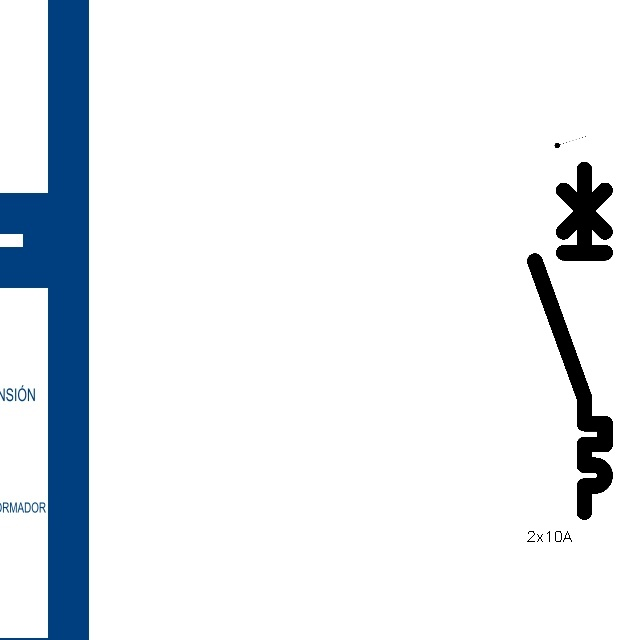interruptor_termomagnetico: (526, 160, 614, 520)
